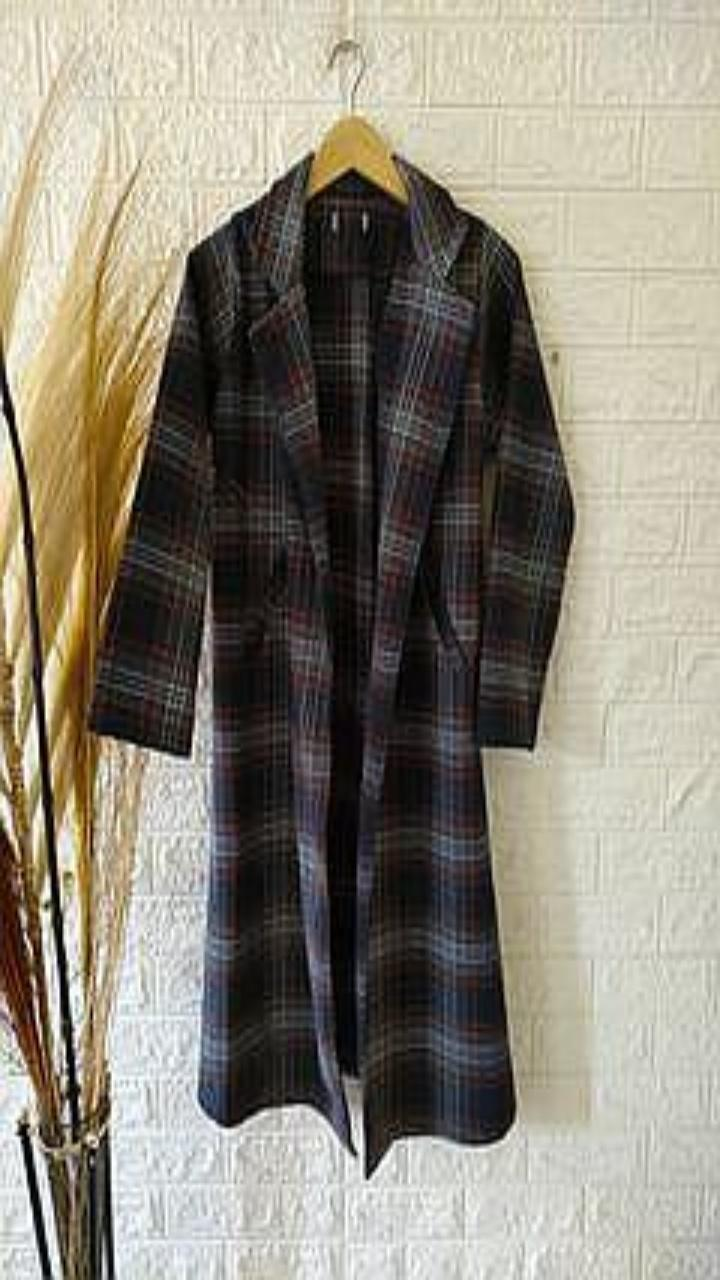Coat: (89, 152, 574, 1176)
